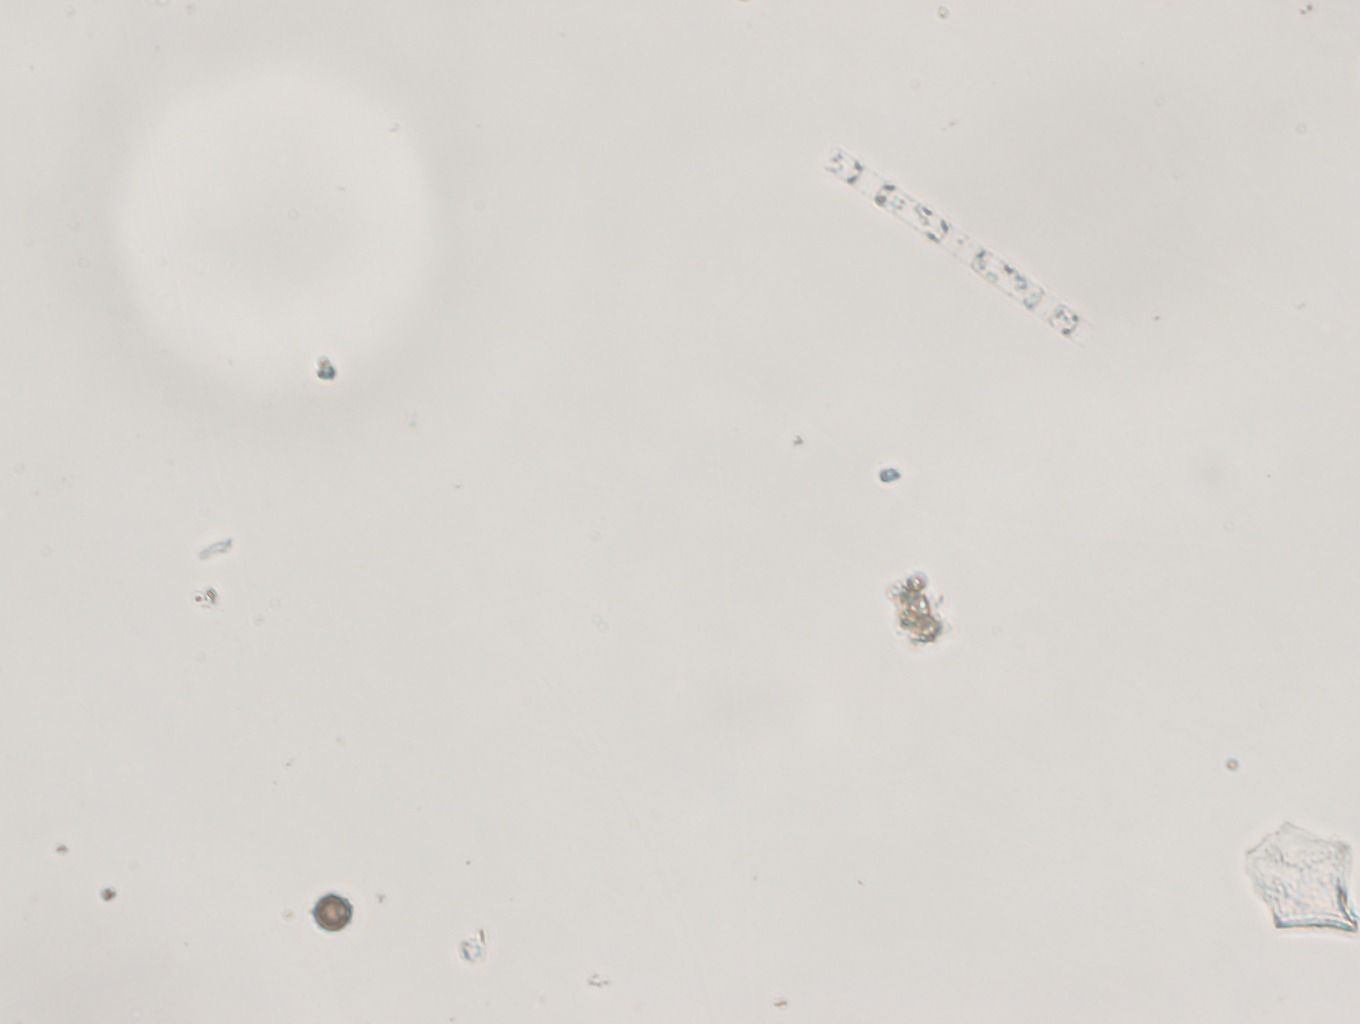skeletonema: (813, 139, 1098, 344)
